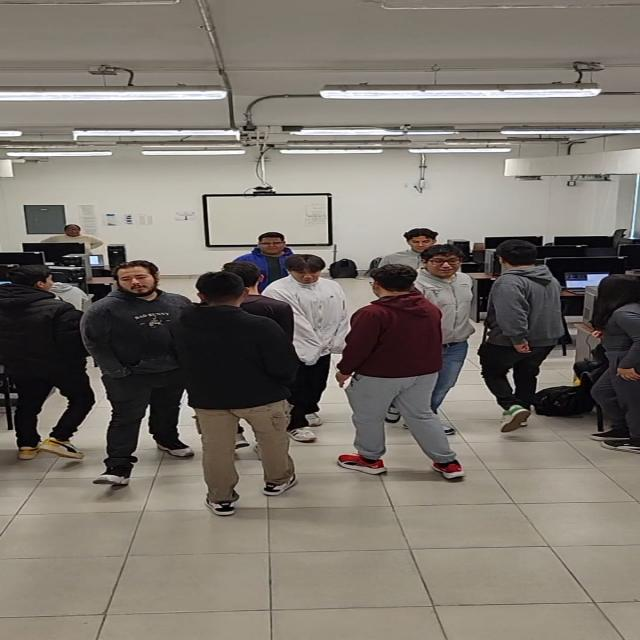Persona: (178, 272, 304, 516), (344, 259, 468, 484), (83, 254, 183, 493), (485, 239, 570, 458), (0, 258, 86, 474), (412, 245, 479, 416), (276, 250, 339, 420)
